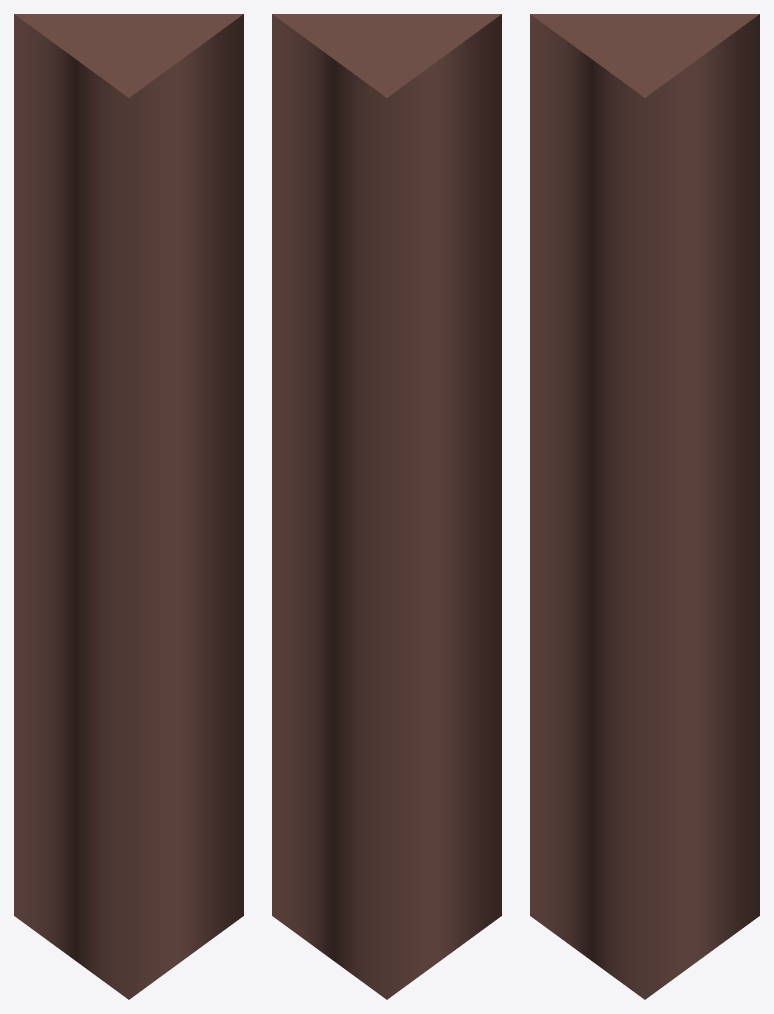
The model's file is Char_GT_Bomb_Wick.FBX.
3 renders of one model, left to right at view 1: azimuth 30°, elevation 25°; view 2: azimuth 150°, elevation 25°; view 3: azimuth 270°, elevation 25°, orthographic.
Parts seen in each view (by area): view 1: Cylinder001; view 2: Cylinder001; view 3: Cylinder001.
Part boxes in pixels (bbox=[...]): Cylinder001: bbox=[14, 14, 243, 999]; Cylinder001: bbox=[272, 14, 501, 999]; Cylinder001: bbox=[530, 14, 759, 999].
Bounding box in the file's own units: 1.5 × 7.5 × 1.73.
